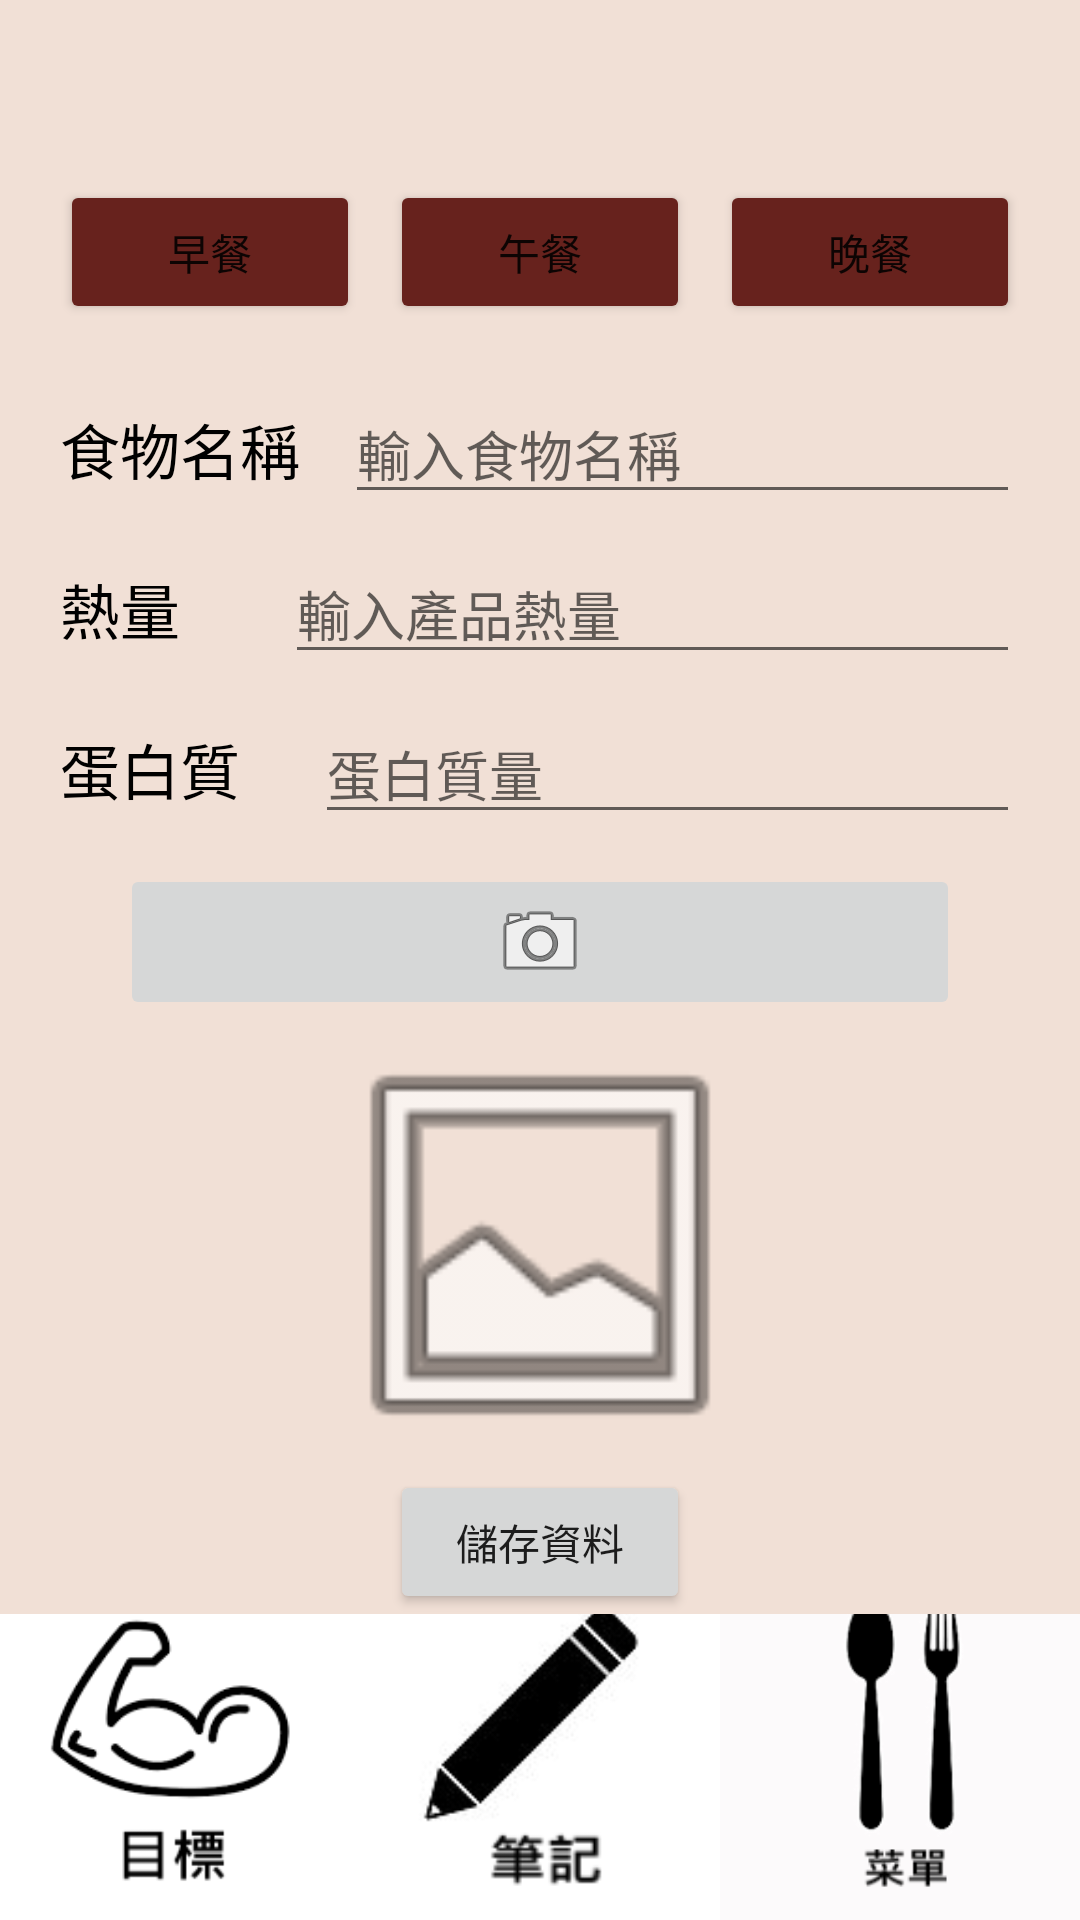

Icons on this 1080 x 1920 Android screen, each with its box as (x1, y1, x2, y2):
gallery: (370, 1075, 710, 1415)
